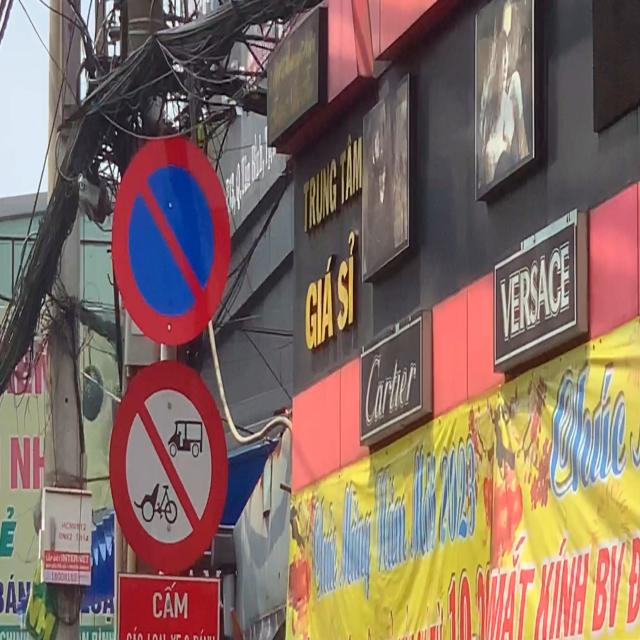Cam con lai: (106, 358, 231, 576)
Cam do: (111, 135, 232, 348)
